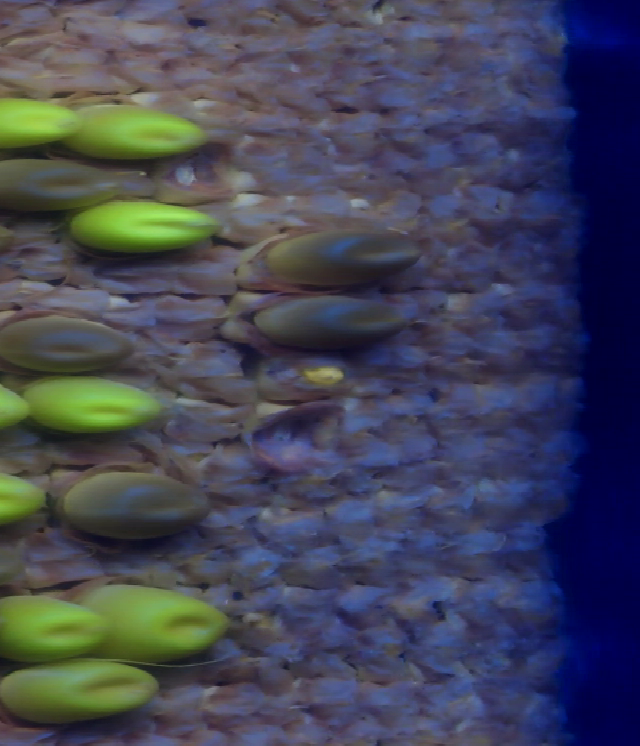fluorescent: (81, 581, 235, 669), (0, 660, 161, 721), (71, 100, 221, 162), (22, 376, 169, 436), (0, 593, 108, 665), (66, 205, 218, 251), (0, 93, 80, 152), (0, 468, 55, 531), (0, 368, 40, 437)
nonfluorescent: (56, 466, 213, 541), (267, 229, 422, 296), (264, 290, 419, 344), (0, 318, 137, 375), (0, 156, 121, 215)
